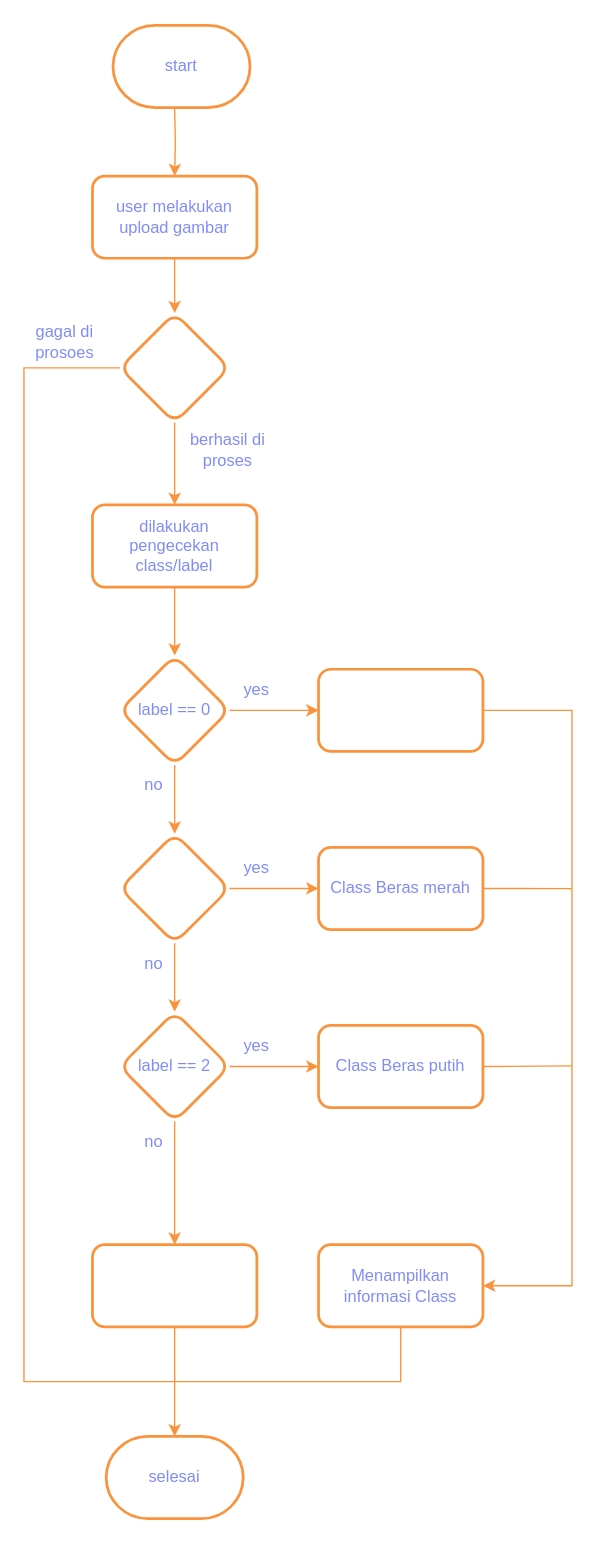
This 607x1543 diagram has some shape labels left out. Here are the shapes that lost their labels. From the top down, the centre of each, then its label:
At pixel 174 367: "gambar di proses".
At pixel 400 709: "Class Beras hitam".
At pixel 174 888: "label == 1".
At pixel 174 1285: "Menampilkan info data tidak valid".
